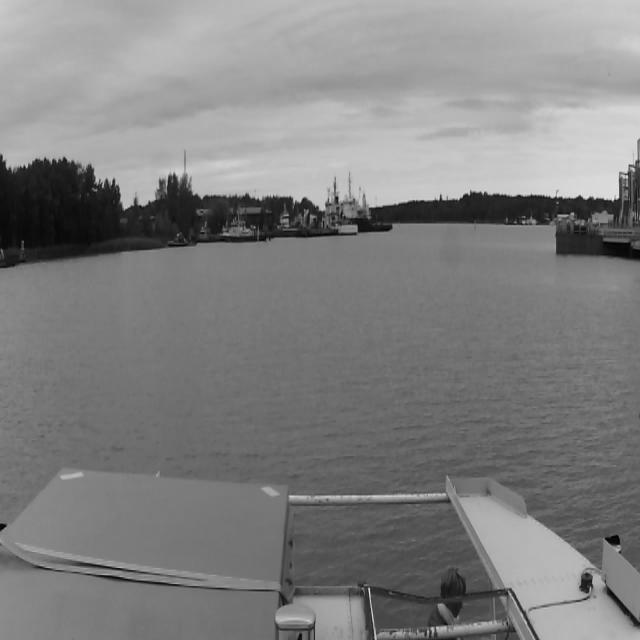ship: (322, 180, 396, 238)
